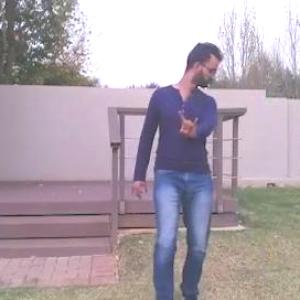takeoff-hand: (172, 102, 205, 140)
